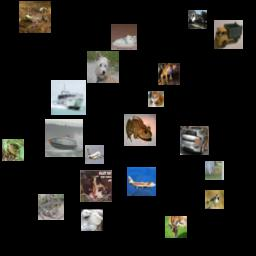airplane: (127, 167, 156, 196), (85, 145, 104, 164)
automobile: (180, 126, 209, 155)
bird: (205, 190, 224, 209)
cat: (80, 170, 112, 202), (111, 24, 137, 50), (148, 91, 164, 107)
deer: (165, 216, 187, 238), (205, 161, 224, 180)
dog: (87, 51, 119, 83)
frog: (19, 1, 51, 33), (124, 114, 156, 146), (38, 194, 64, 220), (158, 63, 180, 85), (2, 139, 24, 161)
ship: (45, 119, 83, 157), (51, 80, 86, 115)
truck: (214, 20, 243, 49), (188, 10, 207, 29)
